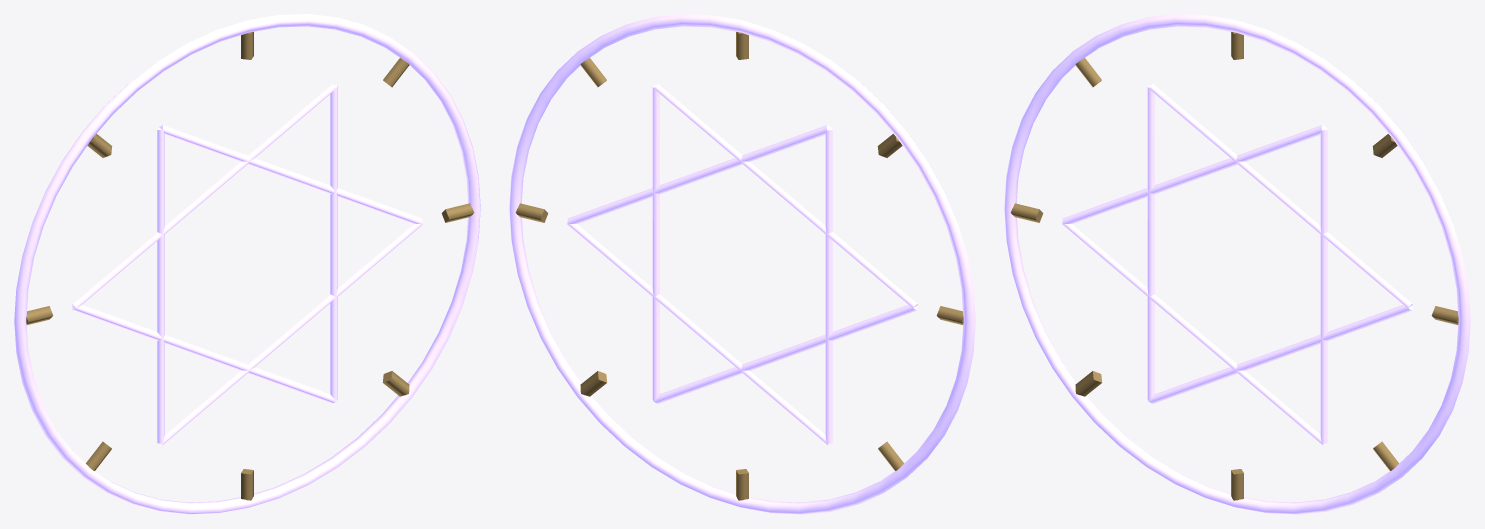
File: rune-symbol.glb
3 views of the same model, side by side, from view 1: azimuth 30°, elevation 25°; view 2: azimuth 150°, elevation 25°; view 3: azimuth 330°, elevation 25° (orthographic).
Parts seen in each view (by area): view 1: FloatingRune_rune, FloatingRune_gold; view 2: FloatingRune_rune, FloatingRune_gold; view 3: FloatingRune_rune, FloatingRune_gold.
Boxes of the visible parts, bbox=[...] form: FloatingRune_rune: bbox=[14, 14, 480, 514]; FloatingRune_gold: bbox=[26, 32, 474, 500]; FloatingRune_rune: bbox=[509, 14, 975, 514]; FloatingRune_gold: bbox=[515, 32, 963, 500]; FloatingRune_rune: bbox=[1004, 14, 1470, 514]; FloatingRune_gold: bbox=[1010, 32, 1458, 500].
Bounding box in the file's own units: 0.984 × 0.984 × 0.028.
